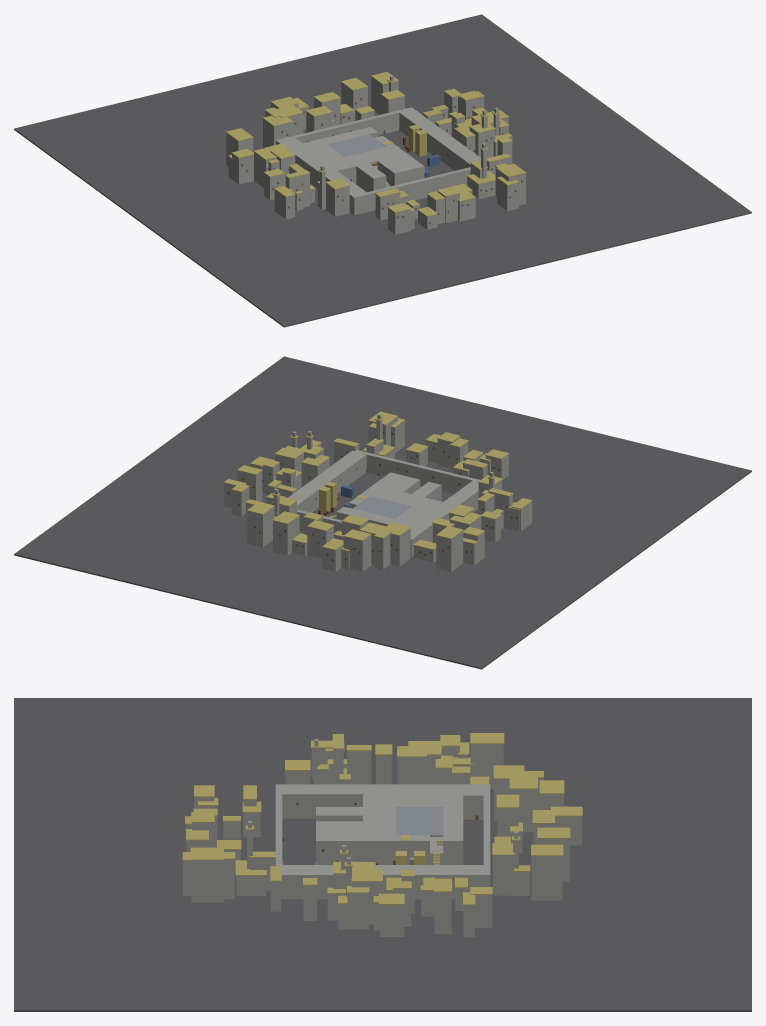
Rendered from de_aq_nuke.glb.
3 renders of one model, top to bottom at view 1: azimuth 30°, elevation 25°; view 2: azimuth 150°, elevation 25°; view 3: azimuth 270°, elevation 25°, orthographic. The views are drawn at different scales.
Visible parts, largest first — view 1: skyline, de_aq_nuke; view 2: skyline, de_aq_nuke; view 3: skyline, de_aq_nuke.
Boxes of the visible parts, left/top/right/bottom form: skyline: left=14, top=14, right=751, bottom=327; de_aq_nuke: left=275, top=107, right=487, bottom=215; skyline: left=14, top=356, right=751, bottom=669; de_aq_nuke: left=288, top=450, right=480, bottom=557; skyline: left=14, top=698, right=751, bottom=1011; de_aq_nuke: left=275, top=784, right=490, bottom=899.
Bounding box in the file's own units: 14096 × 1480 × 14096.
